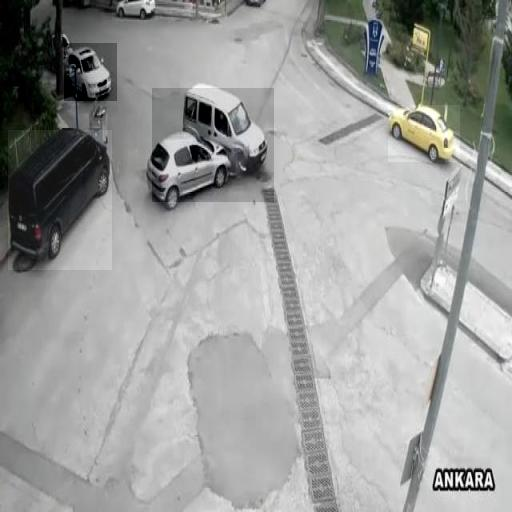小汽车: (8, 130, 112, 270), (388, 105, 460, 162), (64, 43, 117, 101), (112, 1, 158, 21)
小汽车撞小汽车: (152, 88, 274, 202)
